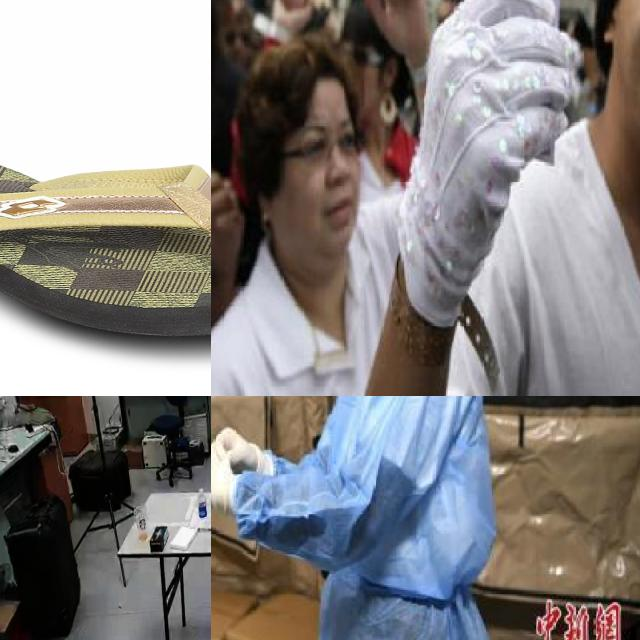Sandals: (0, 151, 211, 340)
face_nomask: (263, 100, 375, 239)
glasses: (297, 120, 369, 170)
hand_glove: (409, 0, 578, 294), (211, 425, 262, 471)
hand_noglove: (355, 0, 427, 57), (267, 0, 309, 31)
head_nohelmet: (231, 51, 375, 117)
person: (211, 396, 544, 640), (437, 0, 640, 396), (214, 32, 423, 396)
